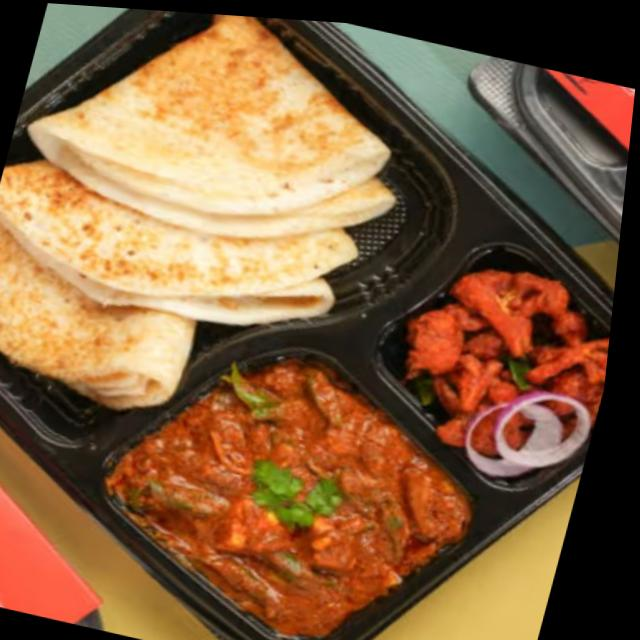CHICKEN FRY: (403, 271, 609, 444)
CURRY: (105, 353, 472, 640)
DOSA: (0, 14, 395, 413)
